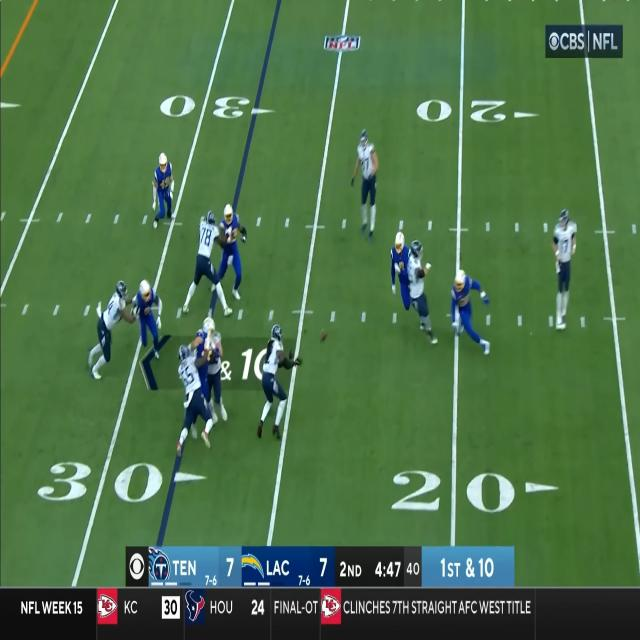football: (319, 328, 329, 343)
players: (255, 326, 302, 444), (88, 281, 140, 382), (184, 211, 232, 318), (176, 346, 214, 457), (451, 270, 491, 356), (408, 242, 439, 346), (199, 320, 229, 422), (552, 208, 577, 329), (351, 131, 379, 238), (218, 205, 248, 302), (131, 281, 164, 360), (391, 231, 415, 310), (152, 153, 175, 229)
